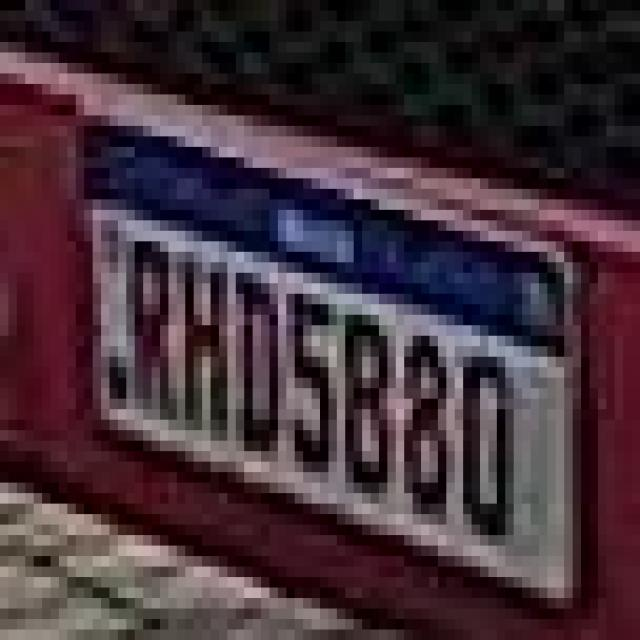0: (457, 346, 520, 543)
5: (280, 278, 344, 478)
8: (398, 322, 459, 528)
B: (337, 308, 400, 502)
D: (233, 276, 286, 462)
H: (175, 250, 231, 434)
R: (122, 225, 180, 427)
